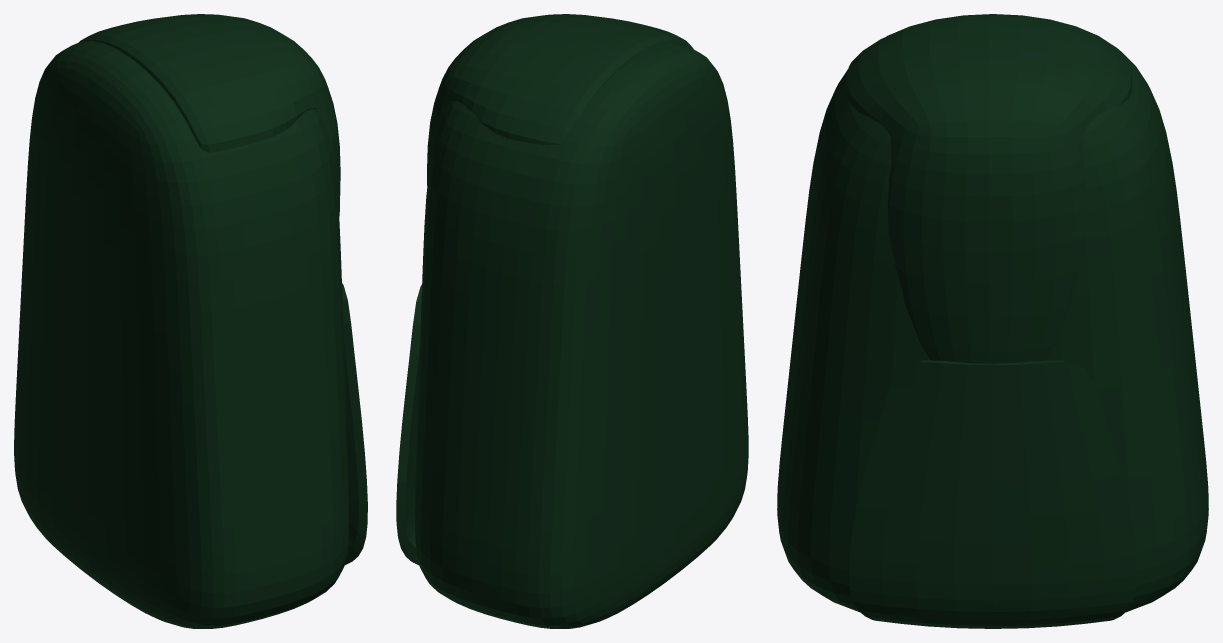
3 views of the same model, side by side, from view 1: azimuth 30°, elevation 25°; view 2: azimuth 150°, elevation 25°; view 3: azimuth 270°, elevation 25° (orthographic). The views are drawn at different scales.
Visible parts, largest first — view 1: Cube, Cube.001, Cube.002; view 2: Cube, Cube.001, Cube.002; view 3: Cube, Cube.001, Cube.002.
Boxes of the visible parts, x1,y1,x2,y2 form: Cube: (14,40,349,628); Cube.001: (79,14,340,216); Cube.002: (342,283,367,564); Cube: (414,43,748,628); Cube.001: (427,14,693,185); Cube.002: (396,285,421,565); Cube: (777,14,1208,612); Cube.001: (845,16,1132,363); Cube.002: (849,360,1136,628).
Bounding box in the file's own units: 90.31 × 198 × 140.
